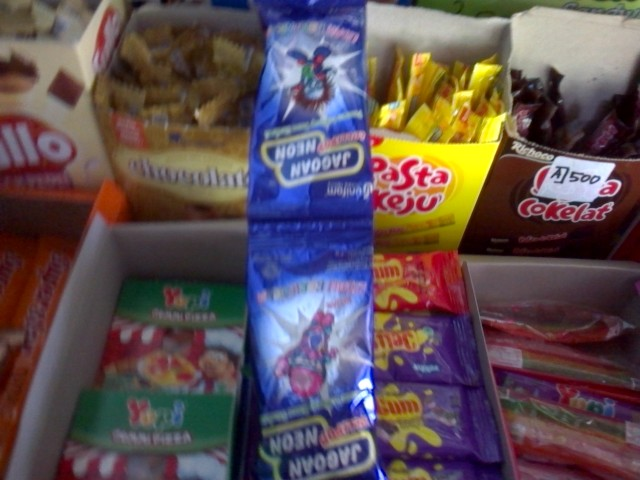jagoan neon: (247, 227, 388, 479), (245, 1, 374, 229)
